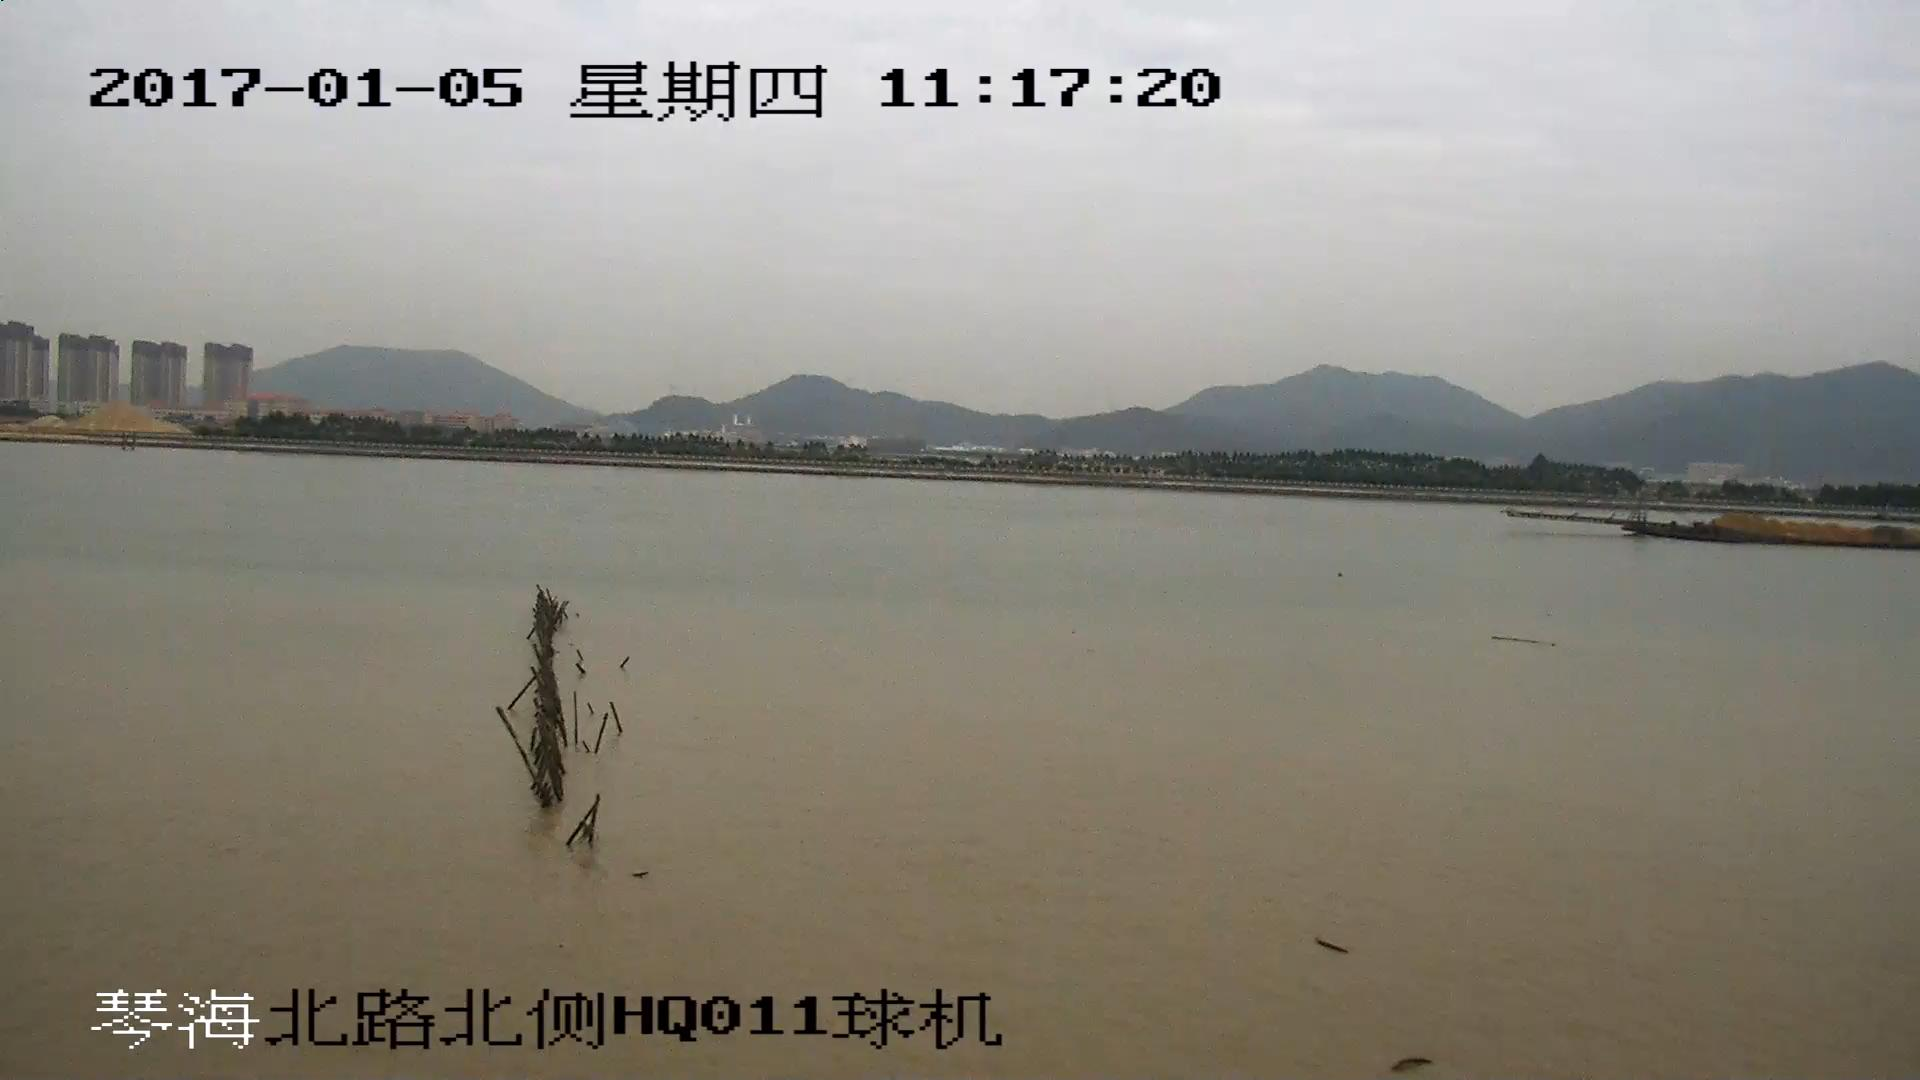ore carrier: (1530, 482, 1920, 547)
